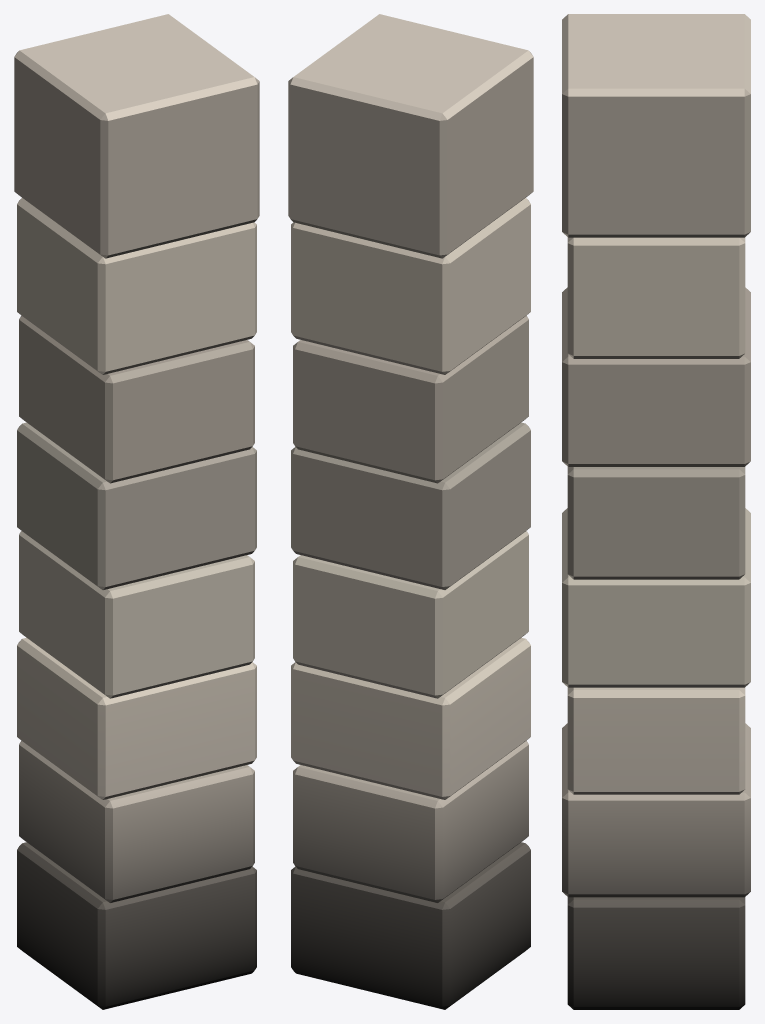
The model's file is SM_VKI_Post_Stone_Corner_Full.fbx.
3 renders of one model, left to right at view 1: azimuth 30°, elevation 25°; view 2: azimuth 150°, elevation 25°; view 3: azimuth 270°, elevation 25°, orthographic. The views are drawn at different scales.
Parts seen in each view (by area): view 1: SM_VKI_Post_Stone_Corner_Full.001; view 2: SM_VKI_Post_Stone_Corner_Full.001; view 3: SM_VKI_Post_Stone_Corner_Full.001.
Boxes of the visible parts, x1=… form: SM_VKI_Post_Stone_Corner_Full.001: x1=14, y1=14, x2=259, y2=1009; SM_VKI_Post_Stone_Corner_Full.001: x1=288, y1=14, x2=533, y2=1009; SM_VKI_Post_Stone_Corner_Full.001: x1=562, y1=14, x2=750, y2=1009.
Size of the model in its own units: 0.62 by 3.34 by 0.62.
